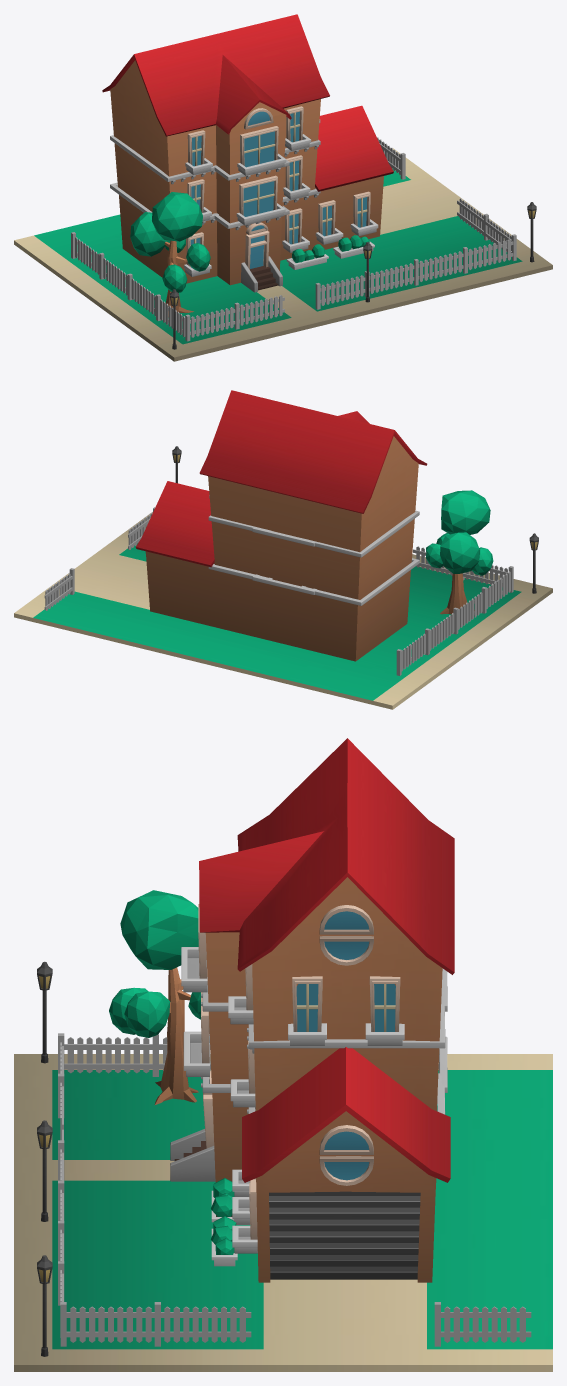
The model's file is house.fbx.
The picture shows the model from 3 angles, top to bottom: view 1: azimuth 30°, elevation 25°; view 2: azimuth 150°, elevation 25°; view 3: azimuth 270°, elevation 25°; orthographic projection. The views are drawn at different scales.
Visible parts, largest first — view 1: house; view 2: house; view 3: house.
Part boxes in pixels (x1,y1,x2,y2): house: [14, 14, 552, 361]; house: [14, 390, 552, 709]; house: [14, 738, 552, 1371].
Size of the model in its own units: 1782 by 992 by 1305.
